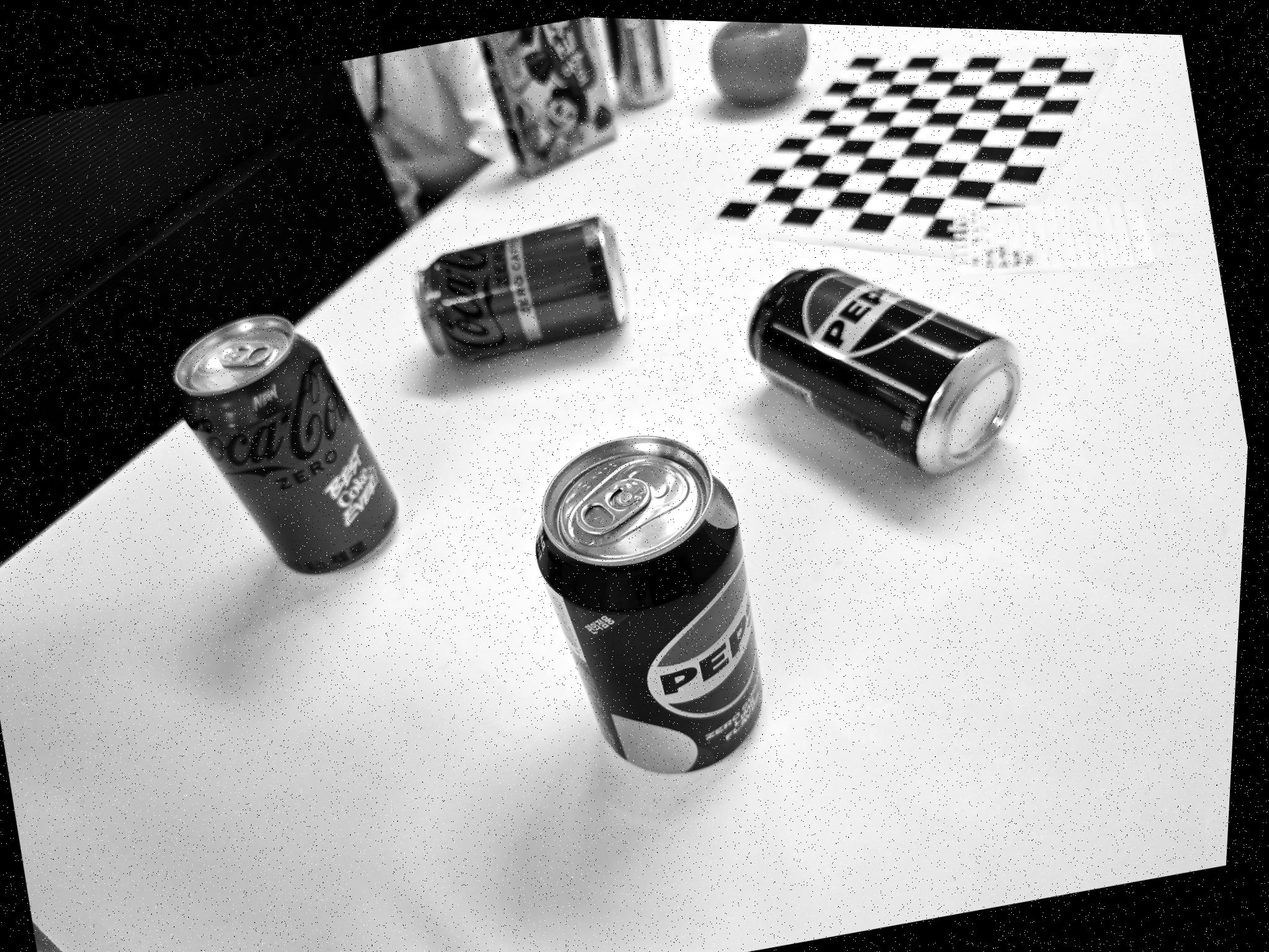can_coke_decaf: (417, 217, 626, 358)
can_coke_zero: (178, 318, 397, 574)
can_pepsi: (749, 269, 1020, 473)
can_pepsi_zero: (535, 437, 763, 773)
